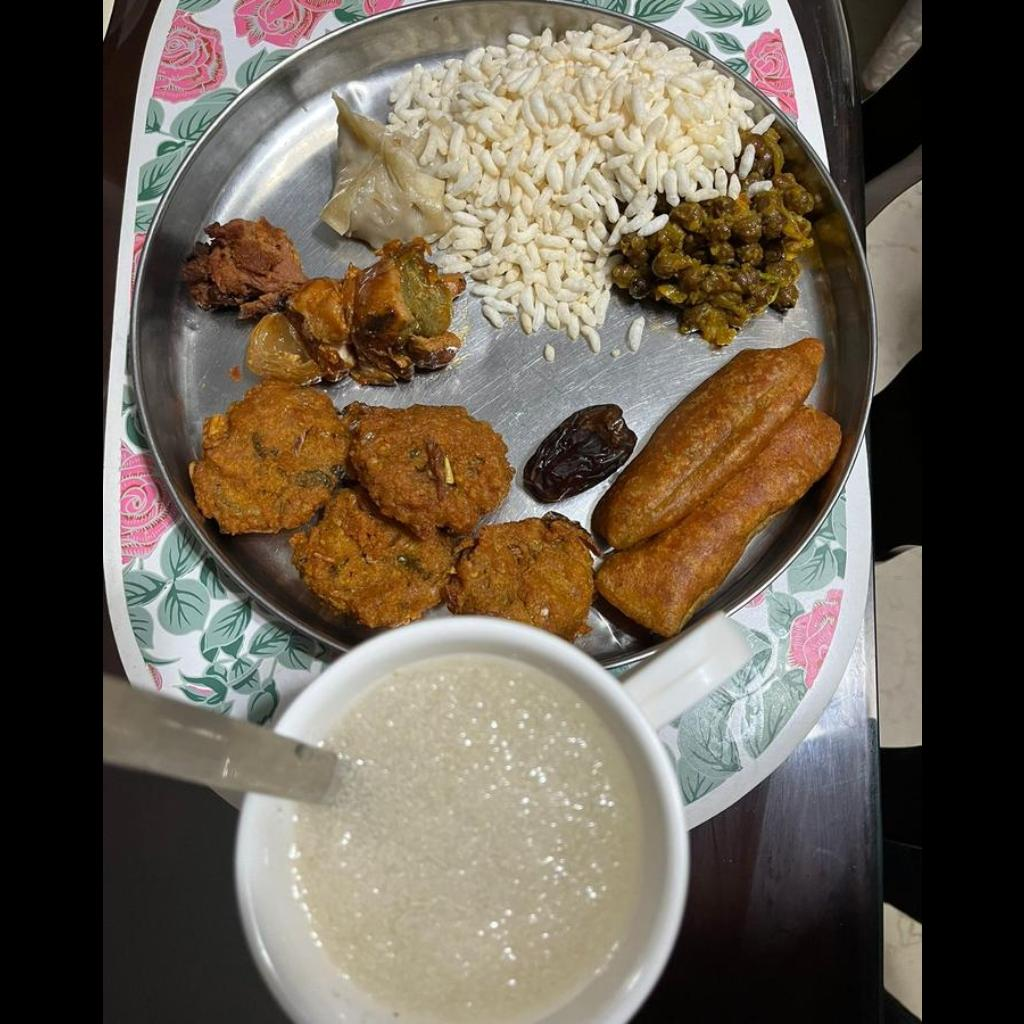beguni: (587, 334, 847, 640)
chicken: (183, 220, 464, 386)
chola: (619, 184, 816, 333)
dates: (523, 405, 636, 503)
juice: (292, 655, 640, 1023)
peyaju: (202, 396, 585, 627)
puffed-rice: (320, 24, 769, 350)
